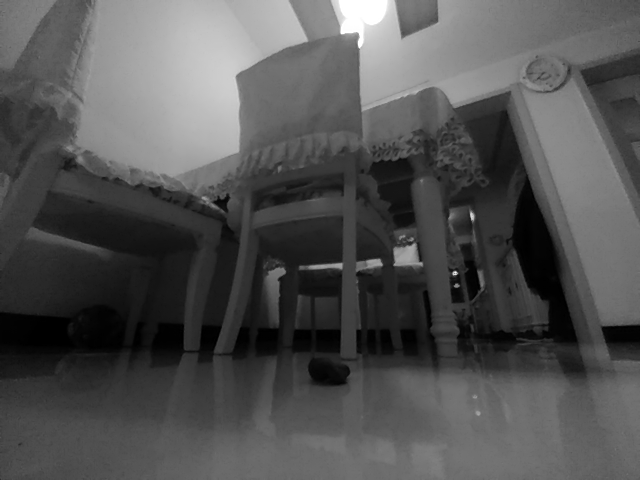pet feces: (306, 355, 352, 387)
